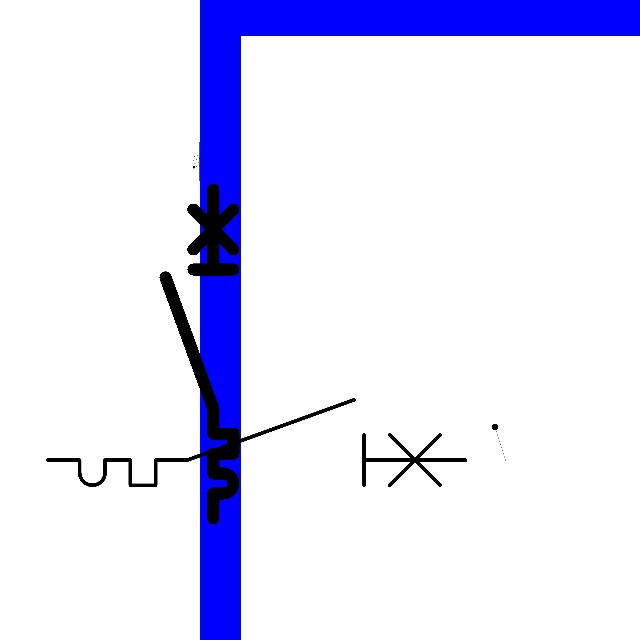interruptor_termomagnetico: (37, 389, 477, 496), (157, 181, 242, 527)
